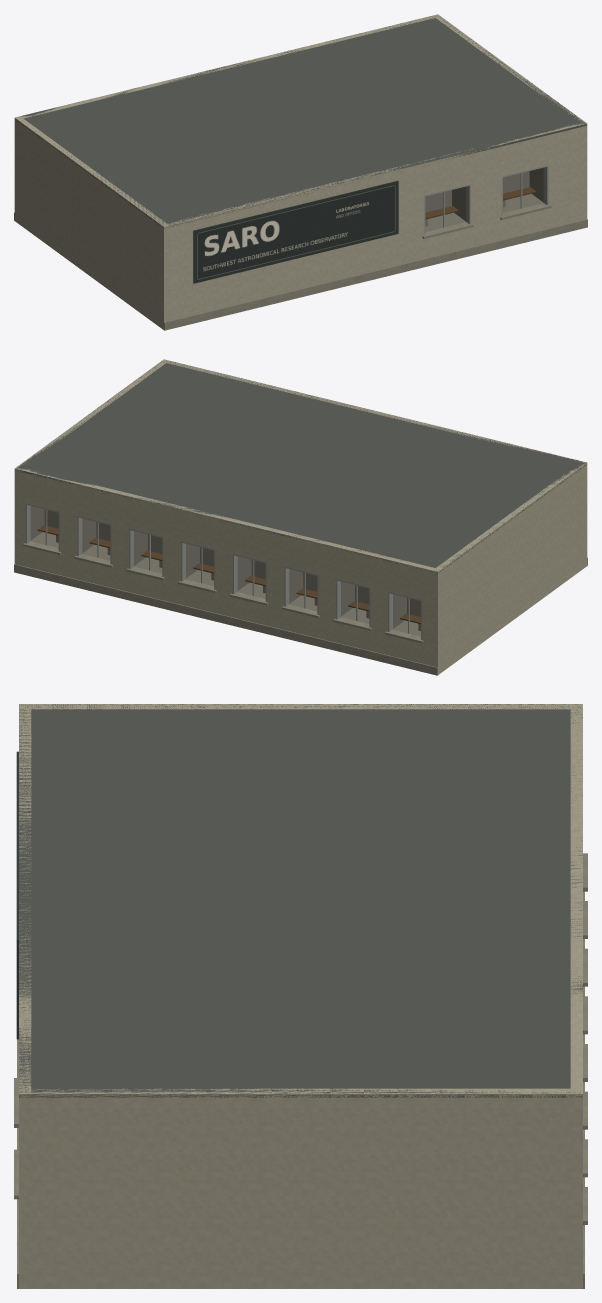
Rendered from SM_SaroSite_Facade_LOD2.fbx.
3 renders of one model, top to bottom at view 1: azimuth 30°, elevation 25°; view 2: azimuth 150°, elevation 25°; view 3: azimuth 270°, elevation 25°, orthographic. The views are drawn at different scales.
Visible parts, largest first — view 1: SM_SaroSite_Facade_LOD2; view 2: SM_SaroSite_Facade_LOD2; view 3: SM_SaroSite_Facade_LOD2.
Part boxes in pixels (<box>): SM_SaroSite_Facade_LOD2: <box>14,14,587,330</box>; SM_SaroSite_Facade_LOD2: <box>14,359,587,675</box>; SM_SaroSite_Facade_LOD2: <box>14,704,587,1288</box>.
Size of the model in its own units: 18 by 11.2 by 4.2.
